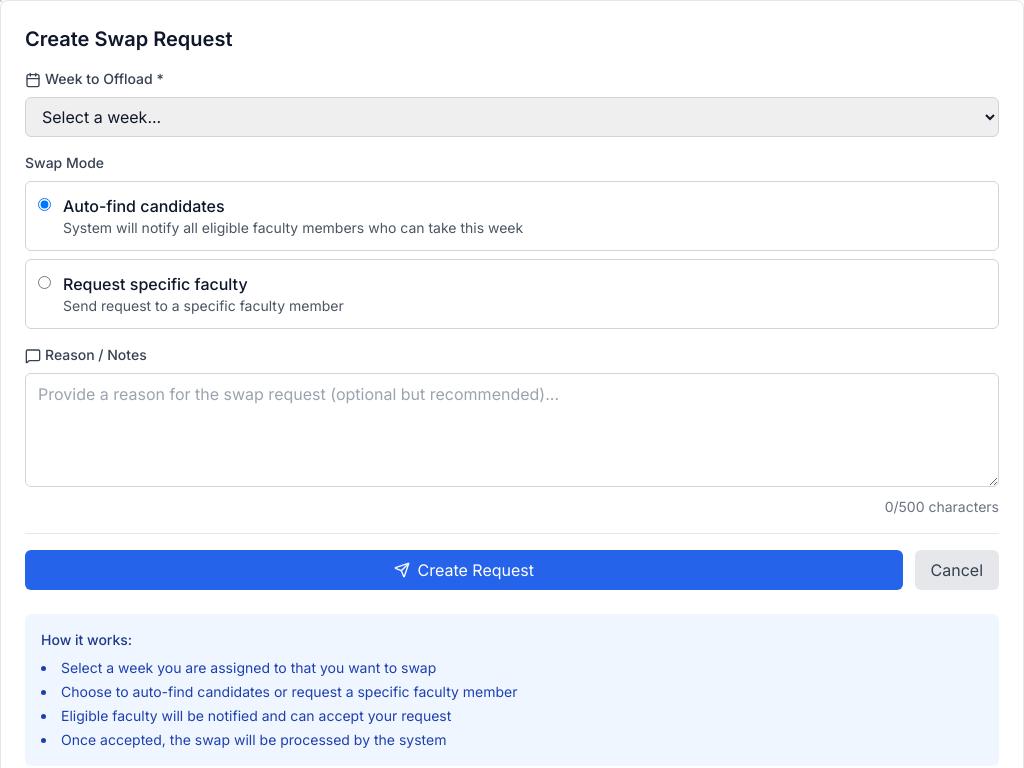
Test case: SwapRequestForm - Enhanced Tests › Error Handling › should handle server error with non-success response
The width and height of the screenshot is (1024, 768).
Select "Jul 1, 2025" in the dropdown at (512,117), box [25, 97, 999, 137]
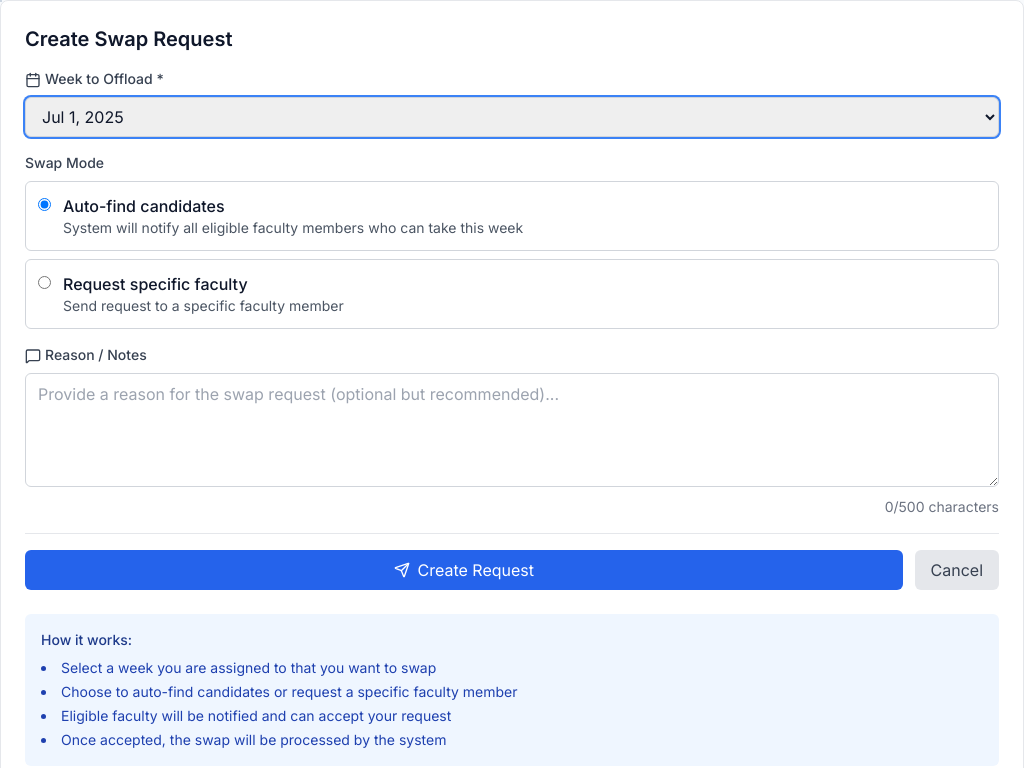
Click the button "Create Request" at (464,570), box [25, 550, 902, 590]
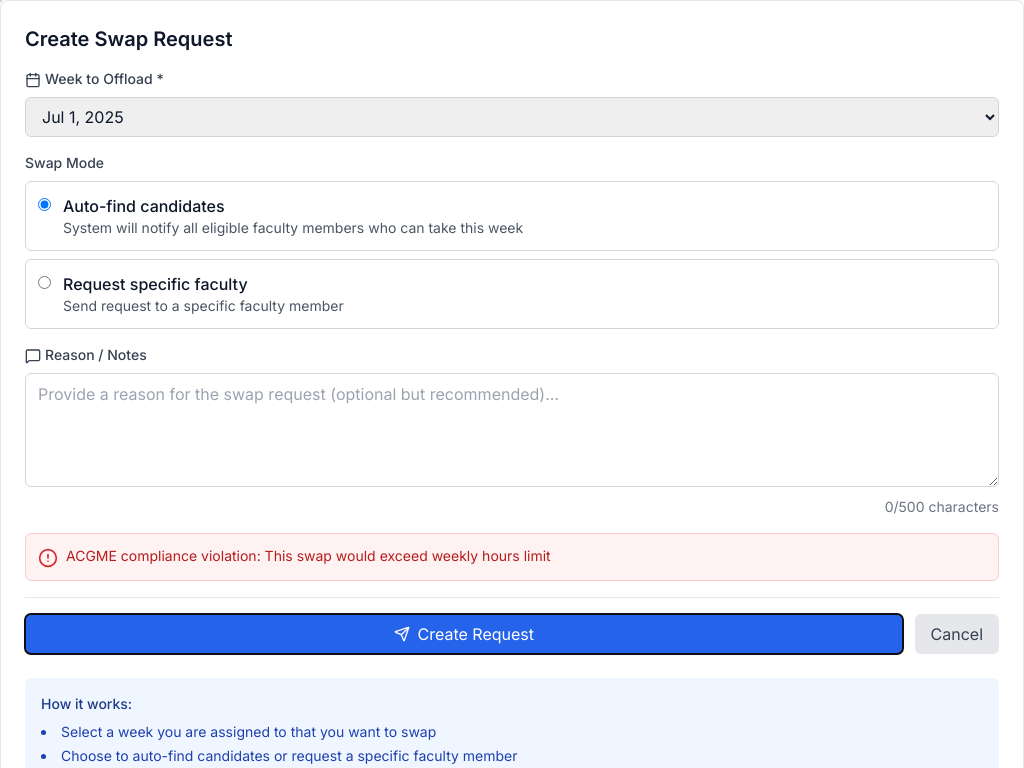
Expected: the text "ACGME compliance violation" is shown, [66, 547, 551, 564]
